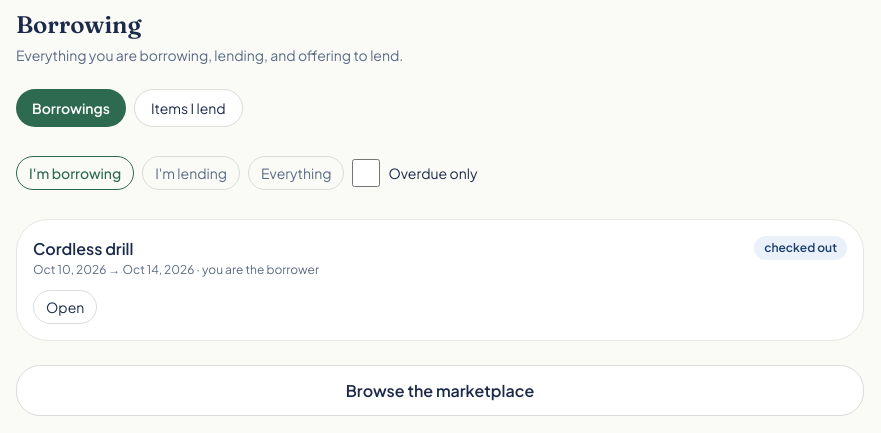
Test: BorrowLists › filters to overdue borrowings
expect the text "checked out" is shown: met, box [754,236,847,260]
Click the checkbox labelled "Overdue only" at (366, 173), box [352,159,380,187]
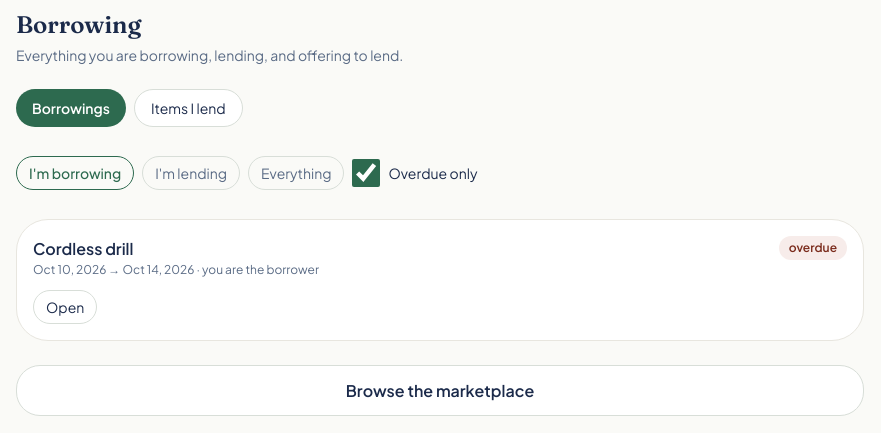
expect the text "overdue" is shown: met, box [779,236,847,260]
